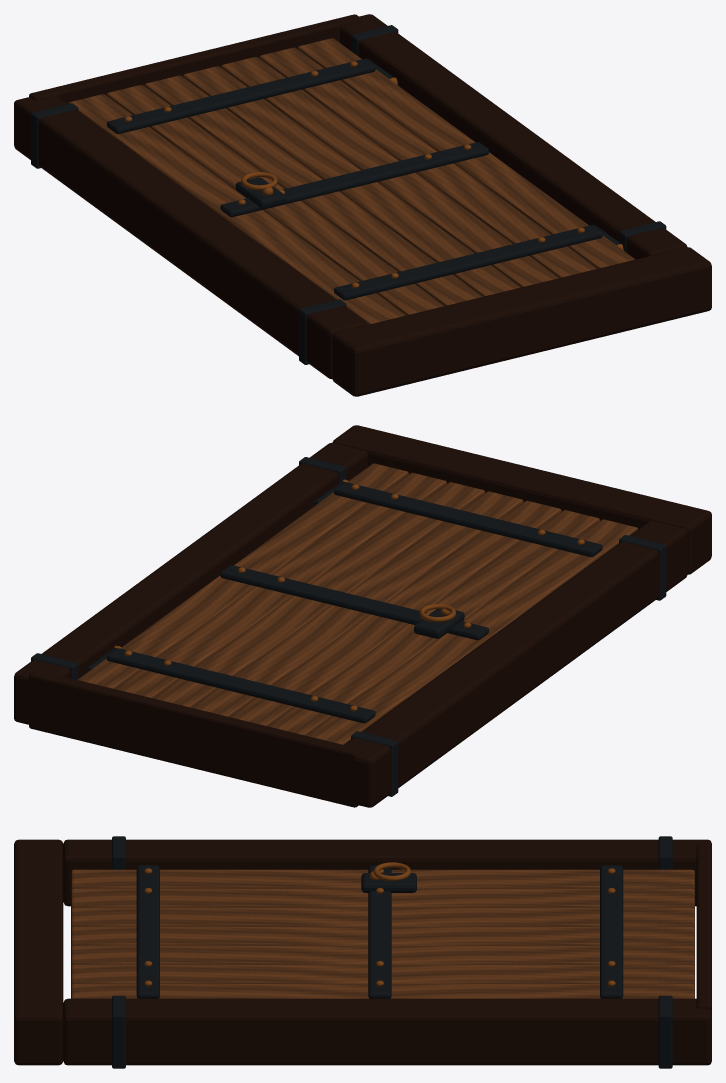
The model's file is Door.obj.
3 renders of one model, top to bottom at view 1: azimuth 30°, elevation 25°; view 2: azimuth 150°, elevation 25°; view 3: azimuth 270°, elevation 25°, orthographic.
Visible parts, largest first — view 1: Separate_Frame_Header, Separate_Frame_Post.001, Separate_Frame_Post, Door_Vertical_Plank, Door_Vertical_Plank.006, Door_Vertical_Plank.003, Door_Vertical_Plank.002, Door_Vertical_Plank.001, Door_Vertical_Plank.004, Door_Vertical_Plank.005, Separate_Frame_Threshold, Door_Iron_Strap.002 (+5 smaller); view 2: Separate_Frame_Post.001, Separate_Frame_Threshold, Separate_Frame_Post, Separate_Frame_Header, Door_Vertical_Plank.006, Door_Vertical_Plank, Door_Vertical_Plank.002, Door_Vertical_Plank.003, Door_Vertical_Plank.001, Door_Vertical_Plank.004, Door_Vertical_Plank.005, Door_Iron_Strap (+5 smaller); view 3: Separate_Frame_Post, Separate_Frame_Post.001, Separate_Frame_Header, Door_Vertical_Plank.004, Door_Vertical_Plank.005, Door_Vertical_Plank.006, Door_Vertical_Plank.002, Door_Vertical_Plank.001, Door_Vertical_Plank.003, Door_Vertical_Plank, Door_Iron_Strap, Door_Iron_Strap.002 (+8 smaller).
Boxes of the visible parts, <box> form: Separate_Frame_Header: <box>332,247,711,396</box>; Separate_Frame_Post.001: <box>14,96,367,379</box>; Separate_Frame_Post: <box>340,14,687,259</box>; Door_Vertical_Plank: <box>297,38,635,268</box>; Door_Vertical_Plank.006: <box>68,94,405,324</box>; Door_Vertical_Plank.003: <box>183,66,520,296</box>; Door_Vertical_Plank.002: <box>221,57,558,287</box>; Door_Vertical_Plank.001: <box>259,47,597,277</box>; Door_Vertical_Plank.004: <box>144,75,482,305</box>; Door_Vertical_Plank.005: <box>106,85,444,315</box>; Separate_Frame_Threshold: <box>29,14,362,103</box>; Door_Iron_Strap.002: <box>334,225,602,300</box>; Separate_Frame_Post.001: <box>336,521,687,807</box>; Separate_Frame_Threshold: <box>29,670,362,807</box>; Separate_Frame_Post: <box>14,442,367,727</box>; Separate_Frame_Header: <box>332,425,711,574</box>; Door_Vertical_Plank.006: <box>307,519,637,744</box>; Door_Vertical_Plank: <box>77,463,408,689</box>; Door_Vertical_Plank.002: <box>154,482,485,707</box>; Door_Vertical_Plank.003: <box>192,491,523,716</box>; Door_Vertical_Plank.001: <box>116,472,446,698</box>; Door_Vertical_Plank.004: <box>230,500,561,726</box>; Door_Vertical_Plank.005: <box>268,510,599,735</box>; Door_Iron_Strap: <box>106,648,375,723</box>; Separate_Frame_Post: <box>63,998,711,1065</box>; Separate_Frame_Post.001: <box>63,839,711,906</box>; Separate_Frame_Header: <box>14,839,63,1065</box>; Door_Vertical_Plank.004: <box>71,907,694,928</box>; Door_Vertical_Plank.005: <box>71,888,694,909</box>; Door_Vertical_Plank.006: <box>71,869,694,890</box>; Door_Vertical_Plank.002: <box>71,946,694,966</box>; Door_Vertical_Plank.001: <box>71,965,694,985</box>; Door_Vertical_Plank.003: <box>71,927,694,947</box>; Door_Vertical_Plank: <box>71,984,694,998</box>; Door_Iron_Strap: <box>600,865,623,998</box>; Door_Iron_Strap.002: <box>136,865,159,998</box>.
Bounding box in the file's own units: 1.38 × 0.239 × 2.26.
Materials: 4 (1 with a texture image).
